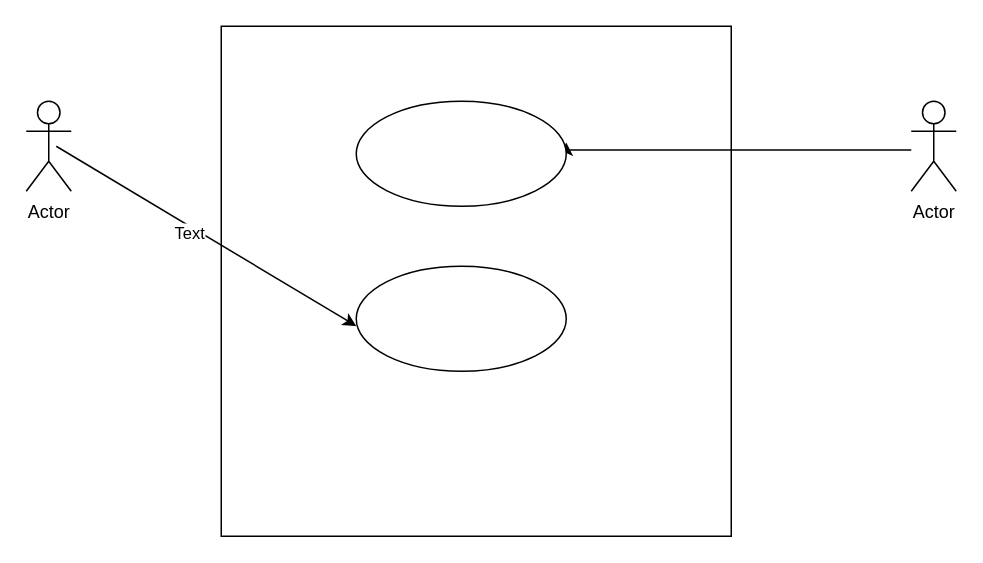
Image size: 983x563. Some labels were removed from this diagram. Here are the shapes that lost their labels. From the top down, the centre of each, then its label:
[460,153]: ana kitap
[460,318]: sisteme giriş
